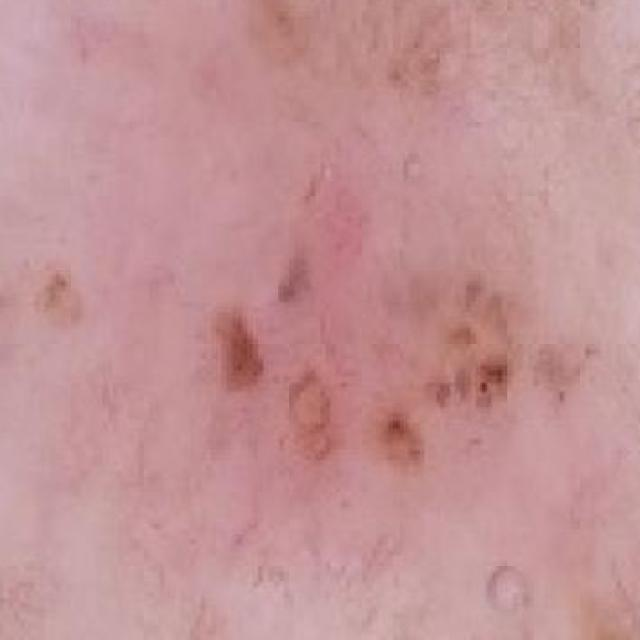BCC: (80, 146, 605, 591)
